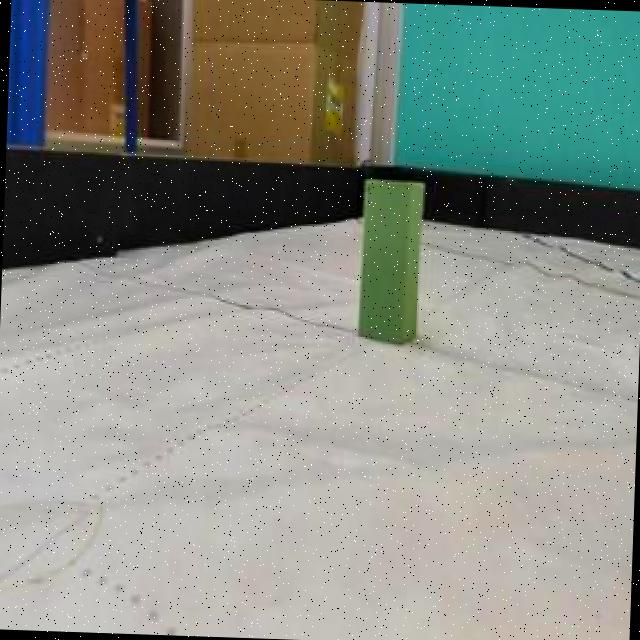greenbox: (354, 176, 424, 346)
